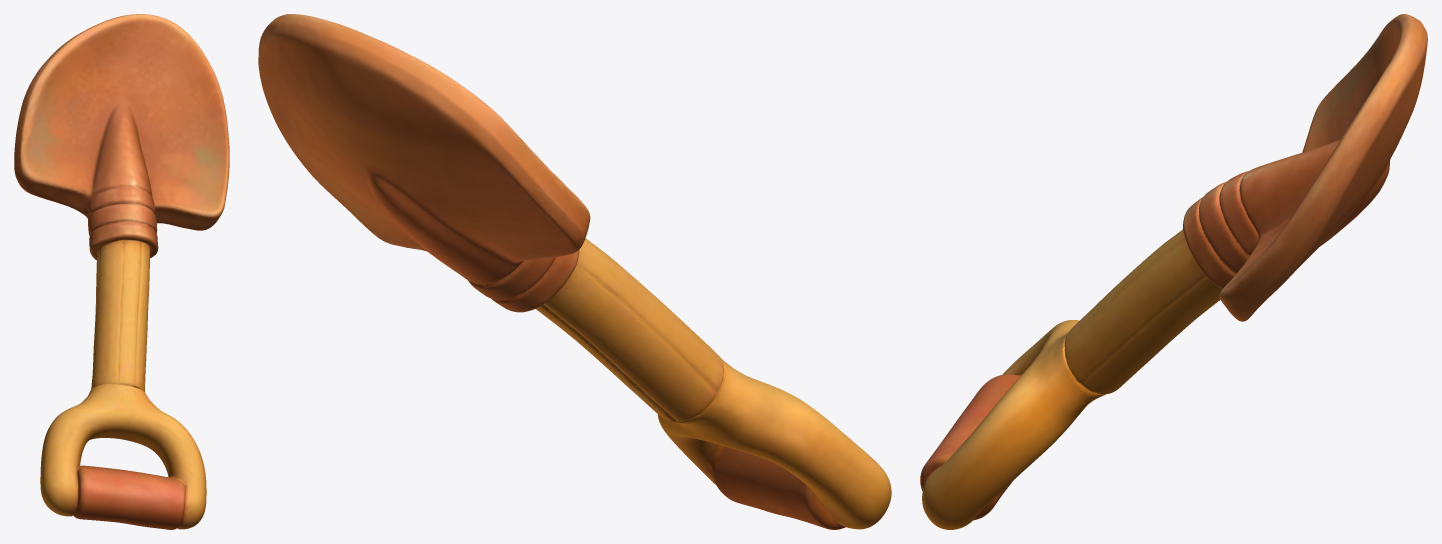
The model's file is xeng.glb.
3 views of the same model, side by side, from view 1: azimuth 30°, elevation 25°; view 2: azimuth 150°, elevation 25°; view 3: azimuth 270°, elevation 25° (orthographic). The views are drawn at different scales.
Size of the model in its own units: 0.2189 by 0.2838 by 0.2335.
Materials: 1 (1 with a texture image).
